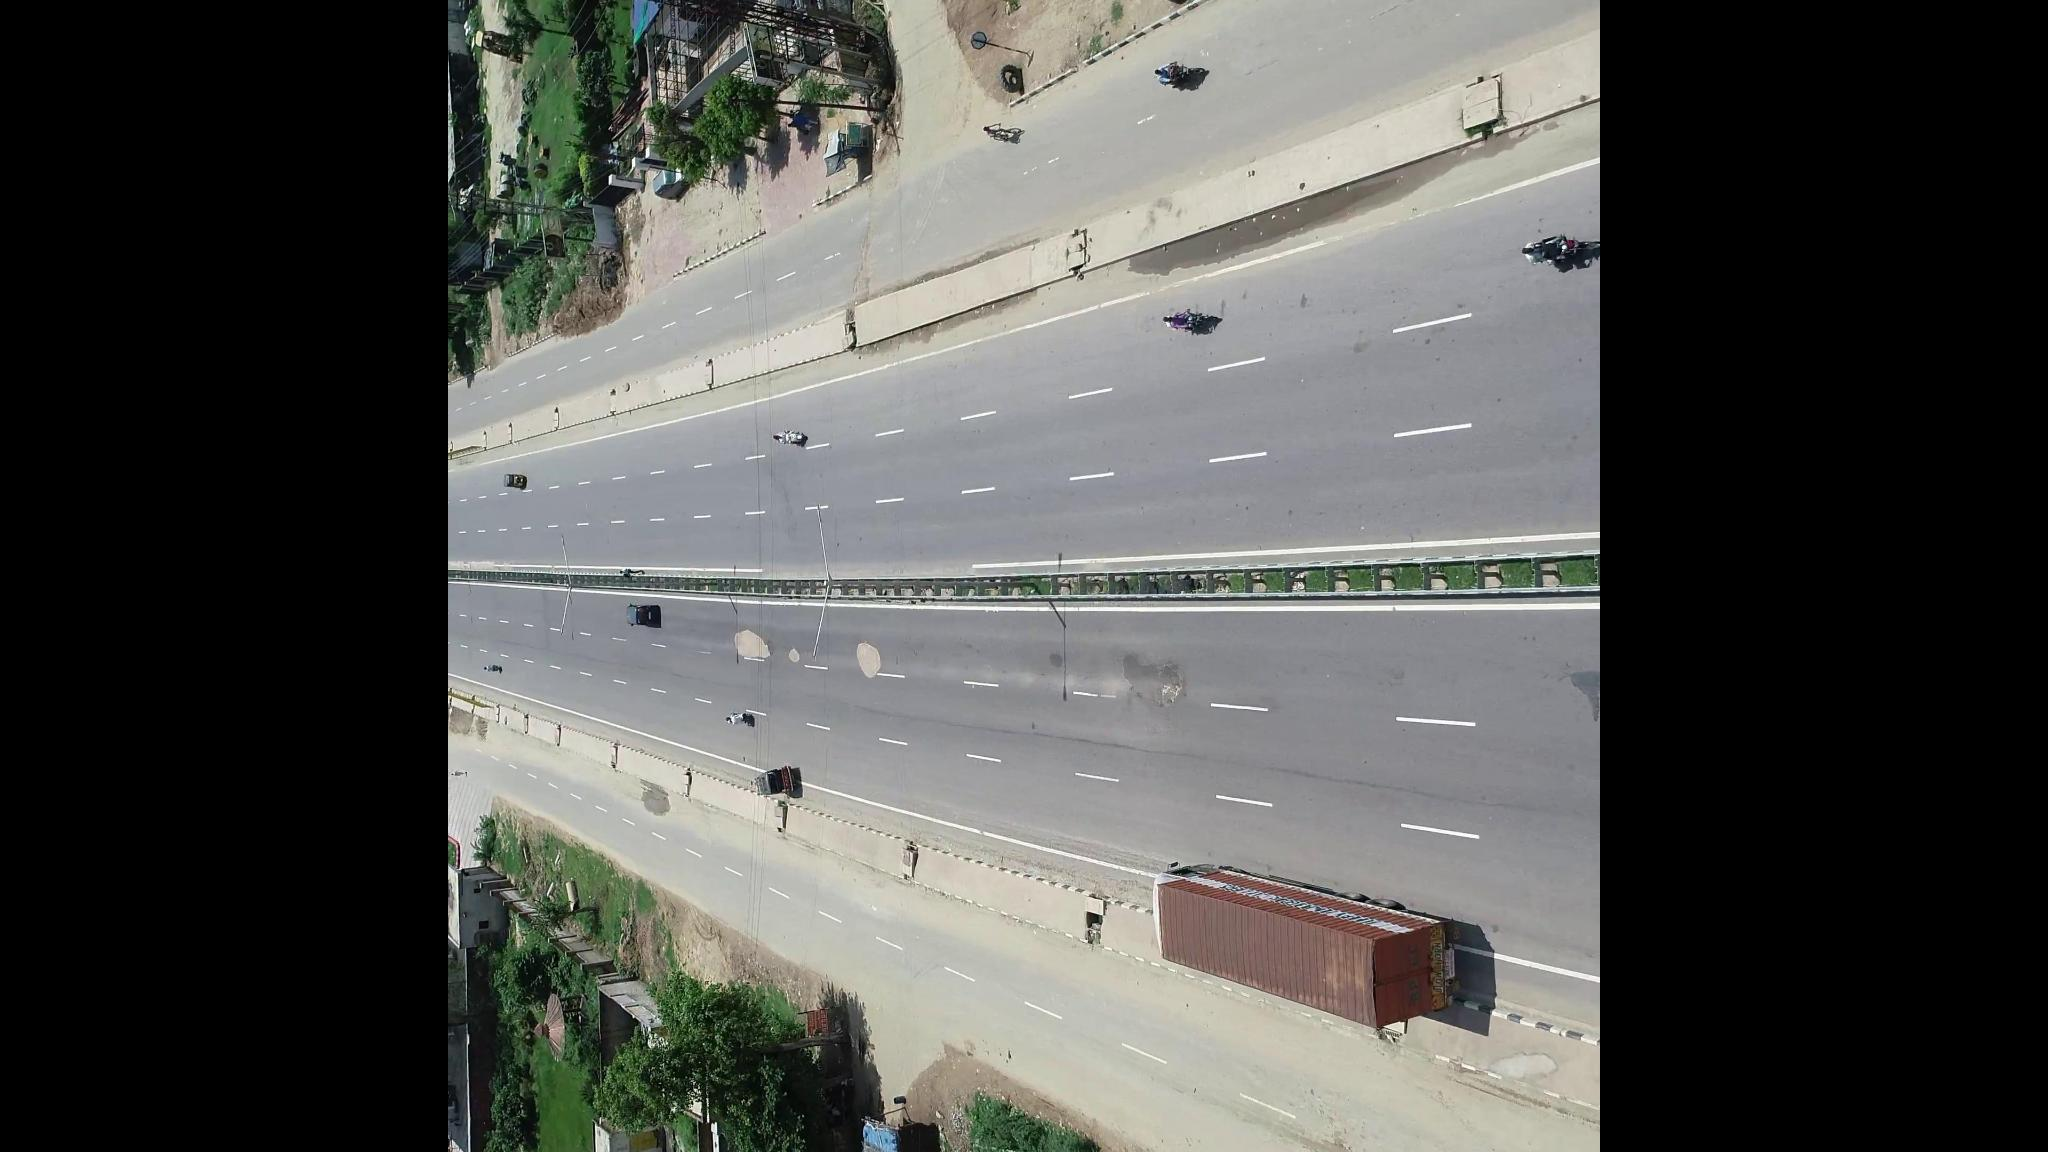Potholes: (710, 619, 783, 681), (1148, 663, 1191, 729), (847, 632, 895, 688), (774, 634, 814, 689)
